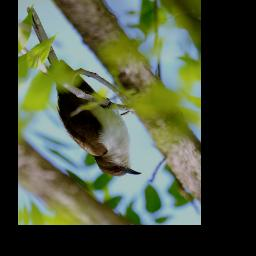Cuckoo: (25, 6, 142, 178)
